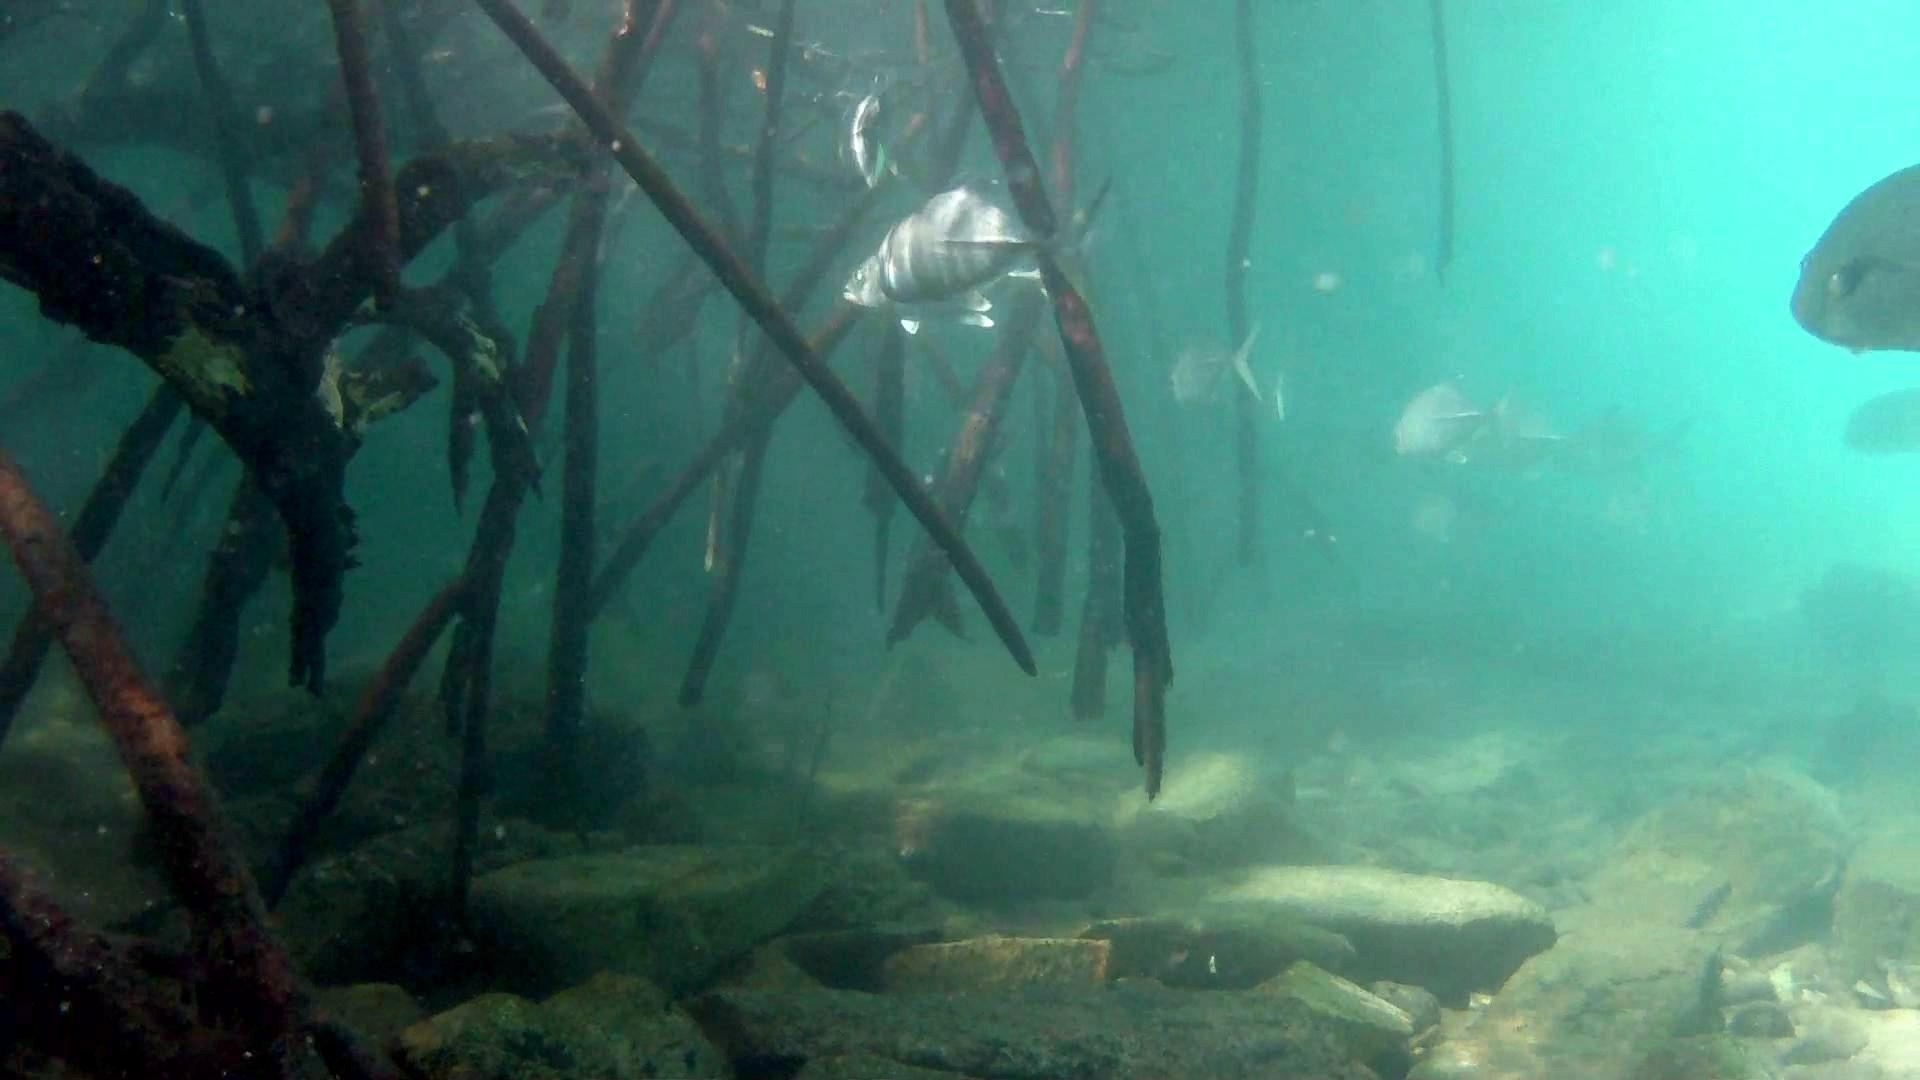caranx: (861, 180, 1122, 320), (1778, 163, 1920, 363)
